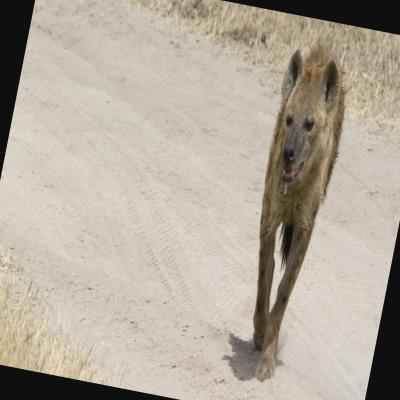hyenas: (161, 17, 395, 400)
